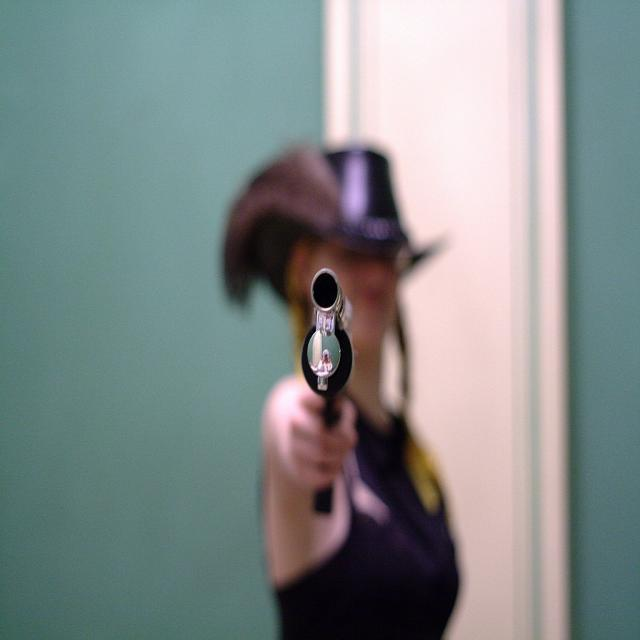Gun: (301, 268, 352, 426), (315, 488, 332, 512)
